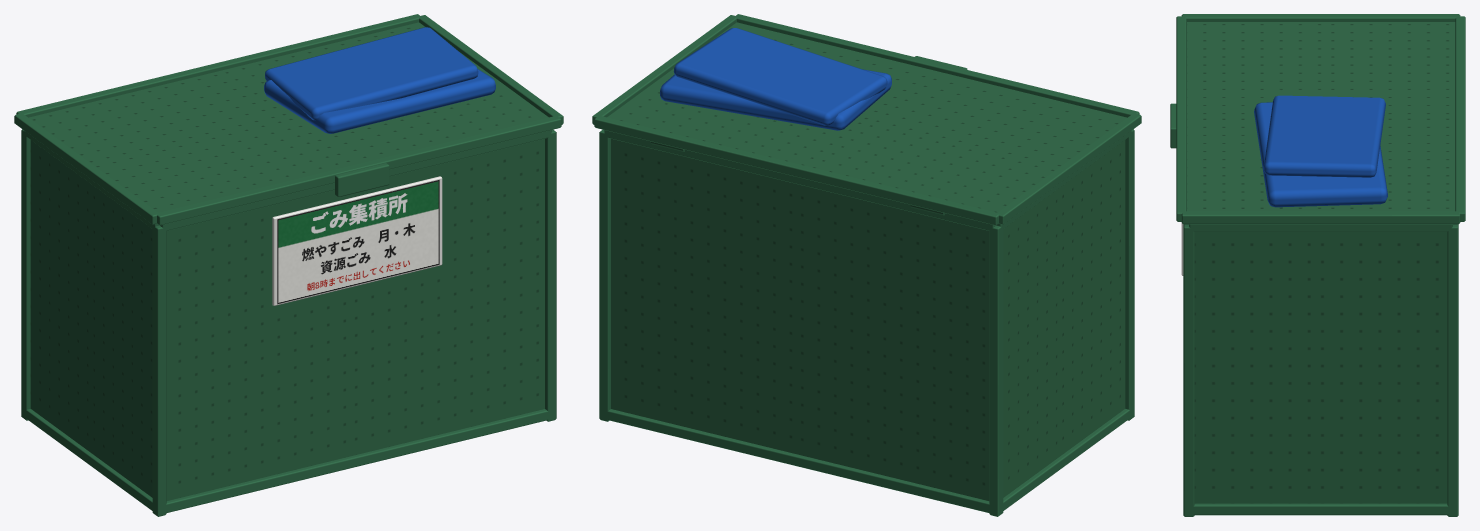
File: garbage_cage.fbx
The picture shows the model from 3 angles, left to right: view 1: azimuth 30°, elevation 25°; view 2: azimuth 150°, elevation 25°; view 3: azimuth 270°, elevation 25°; orthographic projection.
Visible parts, largest first — view 1: garbage_cage; view 2: garbage_cage; view 3: garbage_cage.
Part boxes in pixels (x1,y1,x2,y2): garbage_cage: [14, 14, 563, 516]; garbage_cage: [592, 14, 1141, 516]; garbage_cage: [1170, 14, 1465, 516].
Size of the model in its own units: 1.27 by 0.9822 by 0.784.
6 materials, 2 textured.
